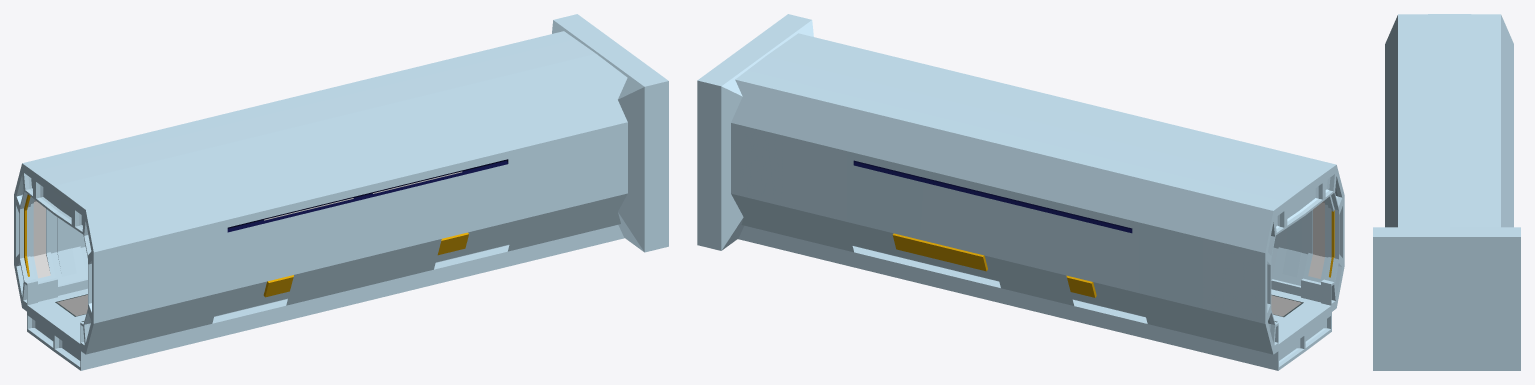
File: corridorbridge.fbx
The picture shows the model from 3 angles, left to right: view 1: azimuth 30°, elevation 25°; view 2: azimuth 150°, elevation 25°; view 3: azimuth 270°, elevation 25°; orthographic projection. The views are drawn at different scales.
Visible parts, largest first — view 1: Cube.016, pCube1; view 2: Cube.016, pCube1, pCube8; view 3: Cube.016, pCube1.
Part boxes in pixels (left/top/right/bottom): Cube.016: left=14, top=31, right=627, bottom=370; pCube1: left=552, top=14, right=668, bottom=252; Cube.016: left=731, top=33, right=1344, bottom=370; pCube1: left=697, top=14, right=813, bottom=250; pCube8: left=892, top=233, right=987, bottom=271; Cube.016: left=1385, top=14, right=1513, bottom=227; pCube1: left=1373, top=227, right=1520, bottom=370.
Size of the model in its own units: 165 by 46.43 by 46.11.
